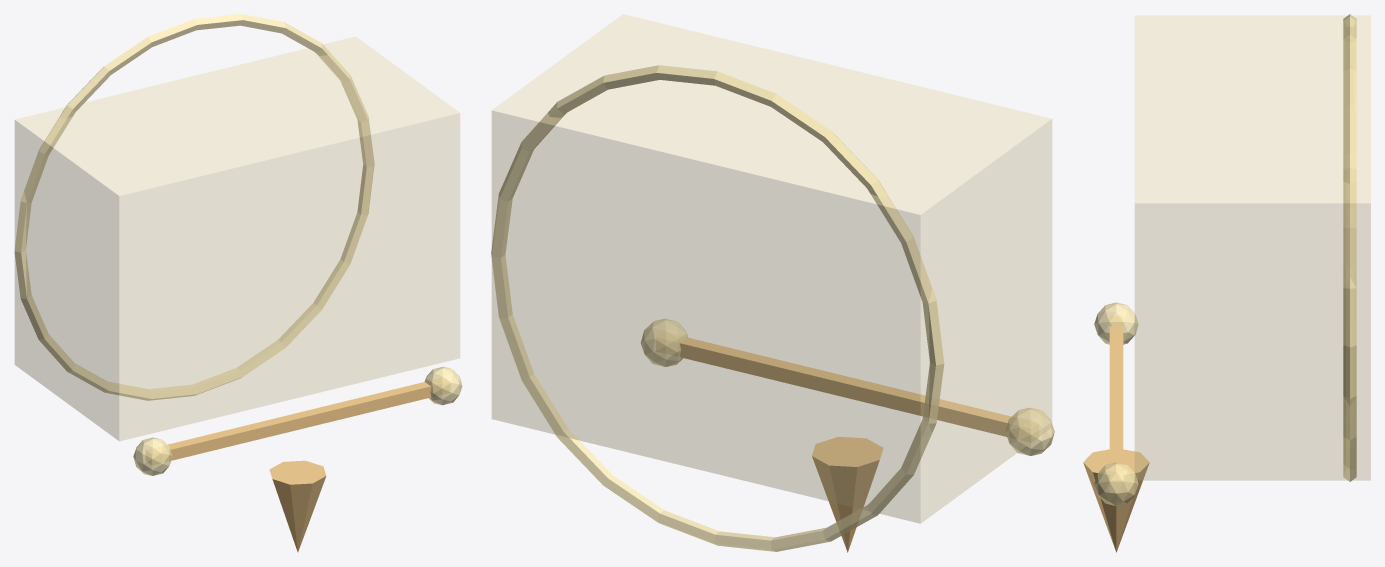
Rendered from 06_dynamic_combat_camera_trigger.glb.
3 views of the same model, side by side, from view 1: azimuth 30°, elevation 25°; view 2: azimuth 150°, elevation 25°; view 3: azimuth 270°, elevation 25° (orthographic). The views are drawn at different scales.
Parts seen in each view (by area): view 1: combat_camera_volume, combat_start_ring, camera_rail, look_direction, camera_anchor_a, camera_anchor_b; view 2: combat_camera_volume, combat_start_ring, camera_rail, look_direction, camera_anchor_a, camera_anchor_b; view 3: combat_camera_volume, combat_start_ring, look_direction, camera_rail, camera_anchor_b, camera_anchor_a.
Part boxes in pixels (x1,y1,x2,y2): combat_camera_volume: (15,36,459,441); combat_start_ring: (14,14,374,400); camera_rail: (146,378,449,464); look_direction: (269,460,326,552); camera_anchor_a: (133,437,172,475); camera_anchor_b: (424,366,462,405); combat_camera_volume: (492,14,1051,523); combat_start_ring: (491,65,944,551); camera_rail: (679,337,1011,436); look_direction: (812,436,883,552); camera_anchor_a: (1005,407,1054,455); camera_anchor_b: (641,318,687,366); combat_camera_volume: (1135,15,1370,480); combat_start_ring: (1343,14,1356,481); look_direction: (1083,449,1149,552); camera_rail: (1109,316,1123,492); camera_anchor_b: (1094,462,1138,506); camera_anchor_a: (1094,302,1138,344).
Bounding box in the file's own units: 1.69 × 2.06 × 1.03.
